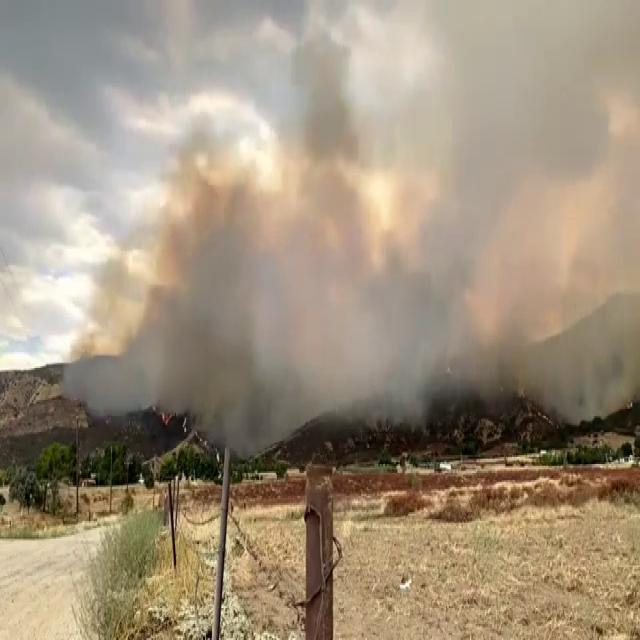Fire: (160, 407, 172, 427)
Smoke: (69, 154, 471, 454), (475, 228, 640, 418), (282, 58, 360, 152)
